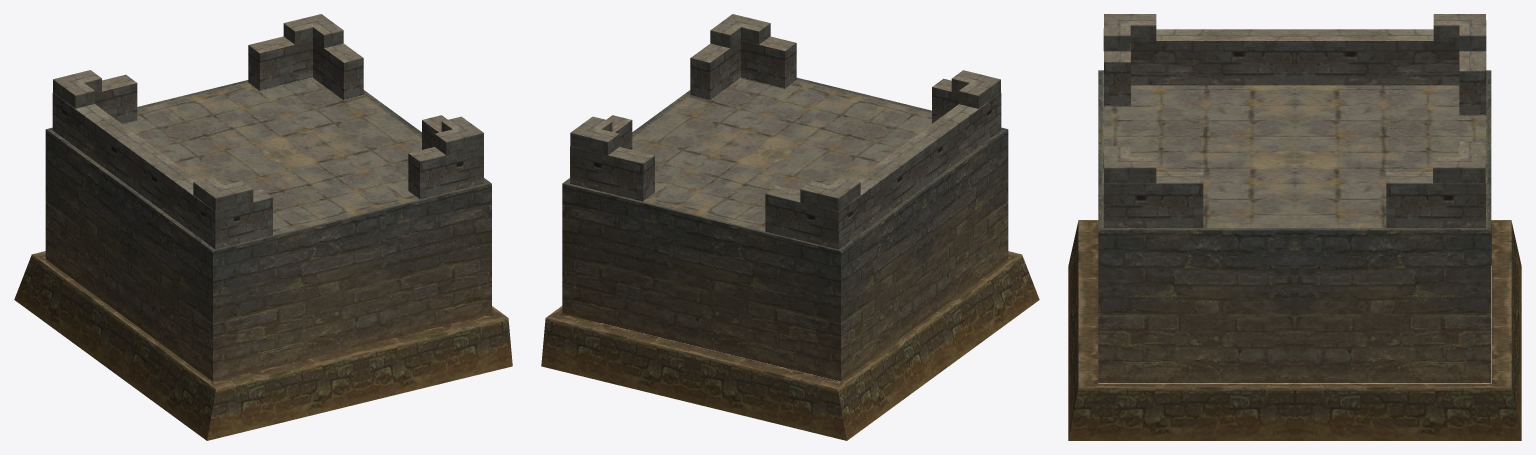
The model's file is yw_yanmenguan_chenglou.FBX.
3 renders of one model, left to right at view 1: azimuth 30°, elevation 25°; view 2: azimuth 150°, elevation 25°; view 3: azimuth 270°, elevation 25°, orthographic. The views are drawn at different scales.
Visible parts, largest first — view 1: yw_yanmenguan_chenglou; view 2: yw_yanmenguan_chenglou; view 3: yw_yanmenguan_chenglou.
Part boxes in pixels (x1,y1,x2,y2): yw_yanmenguan_chenglou: (14, 14, 512, 440); yw_yanmenguan_chenglou: (541, 14, 1039, 440); yw_yanmenguan_chenglou: (1068, 14, 1521, 440).
Bounding box in the file's own units: 859 × 606 × 938.
